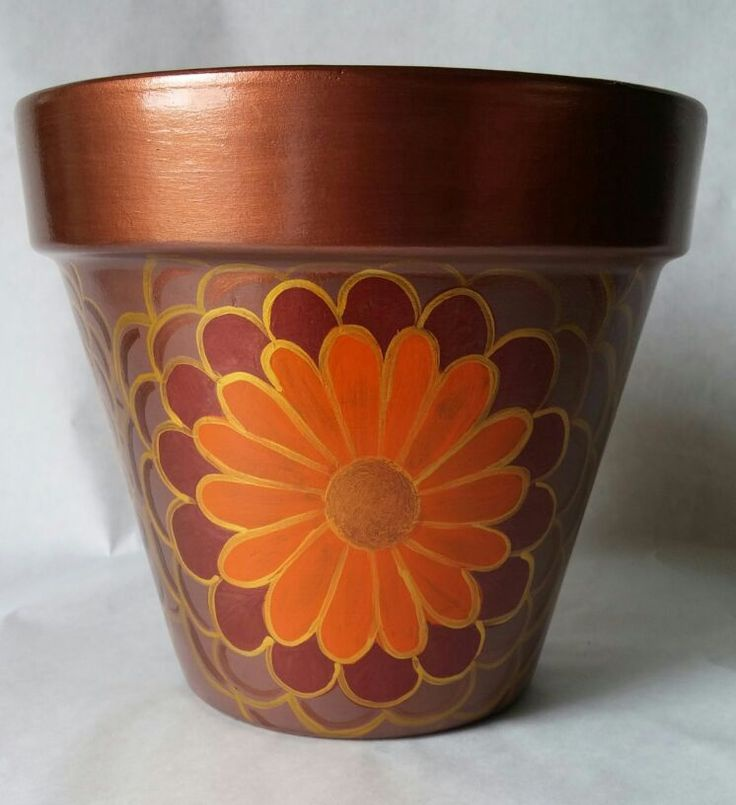flowerpot: (14, 62, 707, 739)
